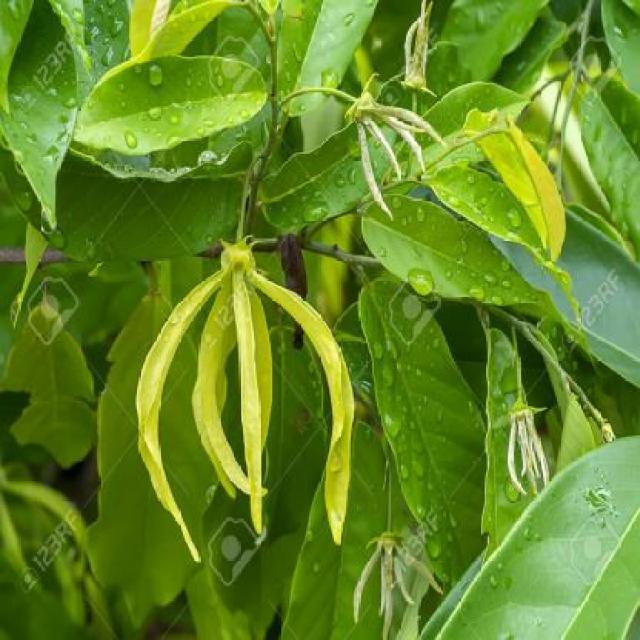flower: (130, 238, 359, 560), (343, 77, 565, 258)
